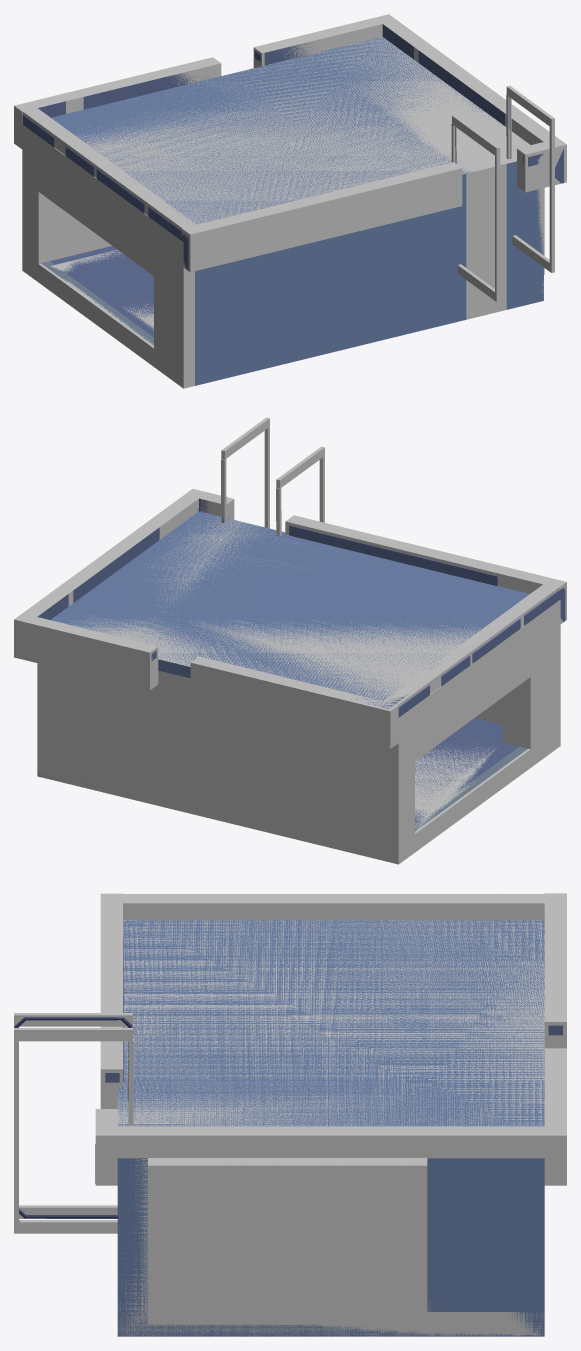
File: SM_Building_09.fbx
3 views of the same model, one above another, from view 1: azimuth 30°, elevation 25°; view 2: azimuth 150°, elevation 25°; view 3: azimuth 270°, elevation 25° (orthographic). The views are drawn at different scales.
Parts seen in each view (by area): view 1: SM_Building_09_ConvexHulls, SM_Building_09; view 2: SM_Building_09_ConvexHulls, SM_Building_09; view 3: SM_Building_09_ConvexHulls, SM_Building_09.
Boxes of the visible parts, bbox=[...] form: SM_Building_09_ConvexHulls: bbox=[14, 14, 566, 388]; SM_Building_09: bbox=[22, 24, 563, 385]; SM_Building_09_ConvexHulls: bbox=[14, 417, 566, 864]; SM_Building_09: bbox=[37, 458, 565, 831]; SM_Building_09_ConvexHulls: bbox=[14, 893, 566, 1336]; SM_Building_09: bbox=[14, 920, 562, 1336].
Bounding box in the file's own units: 2149 × 2073 × 1193.
Materials: 2 (1 with a texture image).
